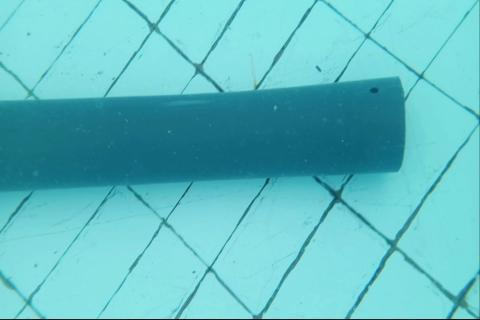kebocoran: (369, 85, 379, 94)
